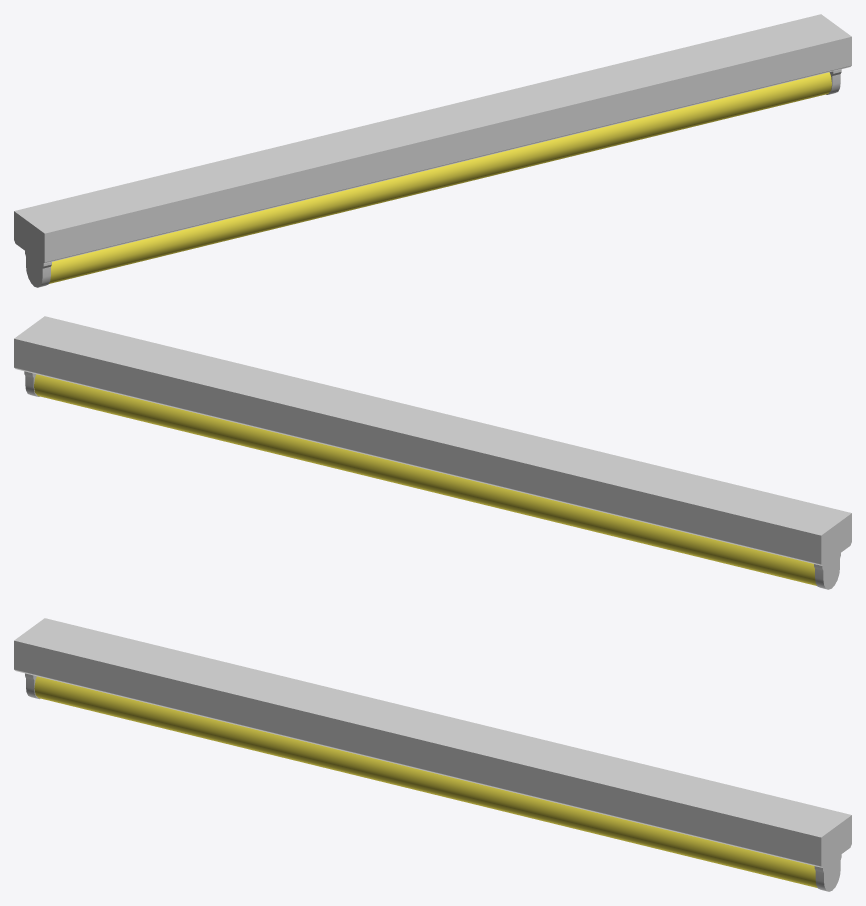
Rendered from Medium Light.fbx.
3 renders of one model, top to bottom at view 1: azimuth 30°, elevation 25°; view 2: azimuth 150°, elevation 25°; view 3: azimuth 330°, elevation 25°, orthographic.
Visible parts, largest first — view 1: light base, light tube; view 2: light base, light tube; view 3: light base, light tube.
Boxes of the visible parts, <box> form: light base: <box>14,14,851,287</box>; light tube: <box>49,72,831,283</box>; light base: <box>14,316,851,589</box>; light tube: <box>34,374,816,585</box>; light base: <box>14,618,851,891</box>; light tube: <box>34,676,817,887</box>.
Size of the model in its own units: 150 by 11.61 by 9.9.
